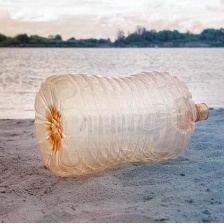bottle: (30, 68, 212, 180)
